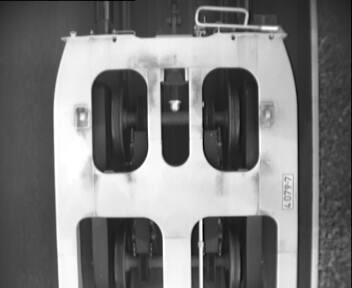Copy of Copy of Copy of wagon_scan: (85, 62, 262, 177)
